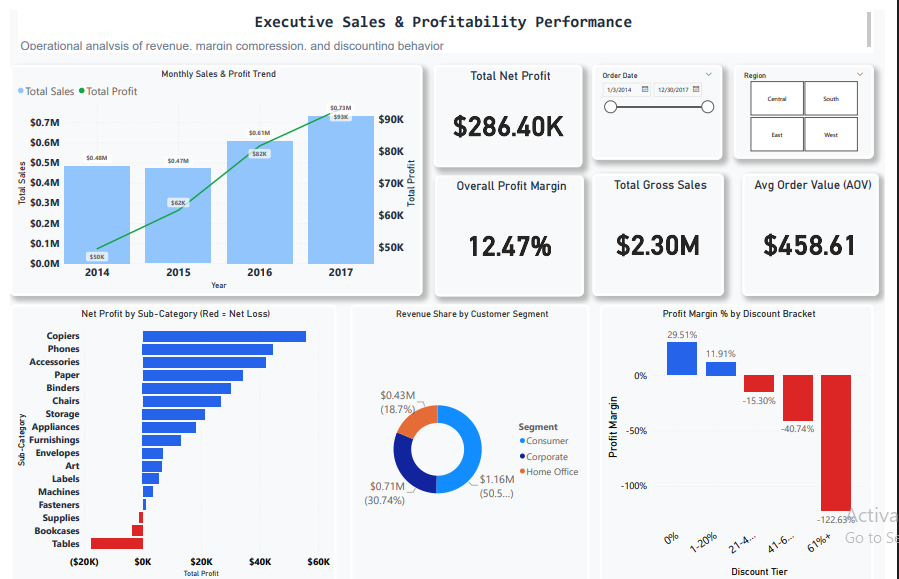

The page's visual inventory and layout, read from the dashboard file:
{"tool":"powerbi","page":{"name":"Page 1","canvas":[1750,1150],"ordinal":0},"visuals":[{"type":"textbox","box":[16.1,0,1711,85],"z":0},{"type":"card","title":"Total Gross Sales","fields":{"Values":["Cleaned_Superstore_for_PowerBI.Total Sales"]},"box":[1165,327.5,262.5,245],"z":1000},{"type":"card","title":"Overall Profit Margin","fields":{"Values":["Cleaned_Superstore_for_PowerBI.Profit Margin"]},"box":[849.7,330.7,298.6,243.4],"z":2000},{"type":"card","title":"Total Net Profit","fields":{"Values":["Cleaned_Superstore_for_PowerBI.Total Profit"]},"box":[847.5,110,297.5,205],"z":3000},{"type":"card","title":"Avg Order Value (AOV)","fields":{"Values":["Cleaned_Superstore_for_PowerBI.Average Order Value"]},"box":[1465,327.5,272.5,245],"z":4000},{"type":"lineClusteredColumnComboChart","title":"Monthly Sales & Profit Trend","fields":{"Category":["Cleaned_Superstore_for_PowerBI.Order Month.Variation.Date Hierarchy.Year","Cleaned_Superstore_for_PowerBI.Order Month.Variation.Date Hierarchy.Quarter","Cleaned_Superstore_for_PowerBI.Order Month.Variation.Date Hierarchy.Month","Cleaned_Superstore_for_PowerBI.Order Month.Variation.Date Hierarchy.Day"],"Y":["Cleaned_Superstore_for_PowerBI.Total Sales"],"Y2":["Cleaned_Superstore_for_PowerBI.Total Profit"]},"box":[0,110,825,462.5],"z":5000},{"type":"donutChart","title":"Revenue Share by Customer Segment","fields":{"Category":["Cleaned_Superstore_for_PowerBI.Segment"],"Y":["Cleaned_Superstore_for_PowerBI.Total Sales"]},"box":[679.8,589.6,480,560.4],"z":6000},{"type":"clusteredBarChart","title":"Net Profit by Sub-Category (Red = Net Loss)","fields":{"Category":["Cleaned_Superstore_for_PowerBI.Sub-Category"],"Y":["Cleaned_Superstore_for_PowerBI.Total Profit"]},"box":[0,590,652.5,560],"z":7000},{"type":"clusteredColumnChart","title":"Profit Margin % by Discount Bracket","fields":{"Y":["Cleaned_Superstore_for_PowerBI.Profit Margin"],"Category":["Cleaned_Superstore_for_PowerBI.Discount Tier"]},"box":[1180,590,547.5,560],"z":8000},{"type":"slicer","fields":{"Values":["Cleaned_Superstore_for_PowerBI.Region"]},"box":[1447.5,110,280,187.5],"z":9000},{"type":"slicer","fields":{"Values":["Cleaned_Superstore_for_PowerBI.Order Date"]},"box":[1165,110,260,190],"z":10000}]}

Visuals, with their boxes in screenshot pixels (x1, y1, x2, y2), scaled from the page's 1750x1150 canvas onto the 899x579 screenshot:
textbox: 8, 0, 887, 43
"Total Gross Sales" card: 598, 165, 733, 288
"Overall Profit Margin" card: 437, 167, 590, 289
"Total Net Profit" card: 435, 55, 588, 159
"Avg Order Value (AOV)" card: 753, 165, 893, 288
"Monthly Sales & Profit Trend" lineClusteredColumnComboChart: 0, 55, 424, 288
"Revenue Share by Customer Segment" donutChart: 349, 297, 596, 578
"Net Profit by Sub-Category (Red = Net Loss)" clusteredBarChart: 0, 297, 335, 578
"Profit Margin % by Discount Bracket" clusteredColumnChart: 606, 297, 887, 578
slicer - Cleaned_Superstore_for_PowerBI.Region: 744, 55, 887, 150
slicer - Cleaned_Superstore_for_PowerBI.Order Date: 598, 55, 732, 151
